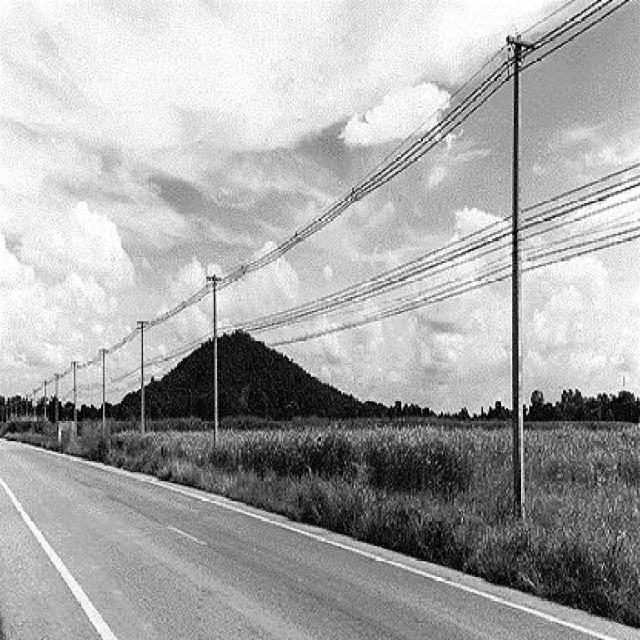Pole: (506, 35, 536, 517), (206, 275, 222, 448), (138, 320, 148, 433)
